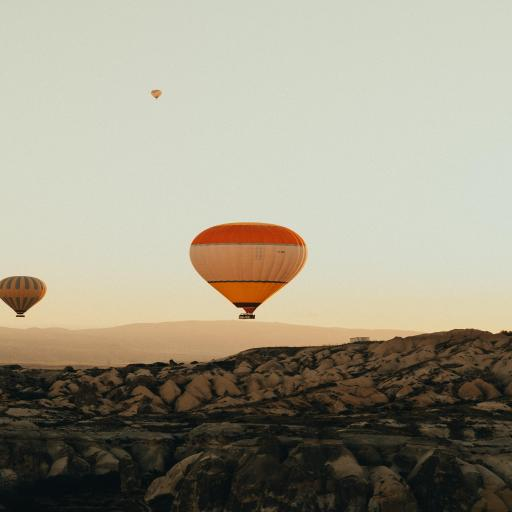hot air ballon: (189, 218, 308, 320), (0, 274, 52, 322), (146, 86, 167, 104)
